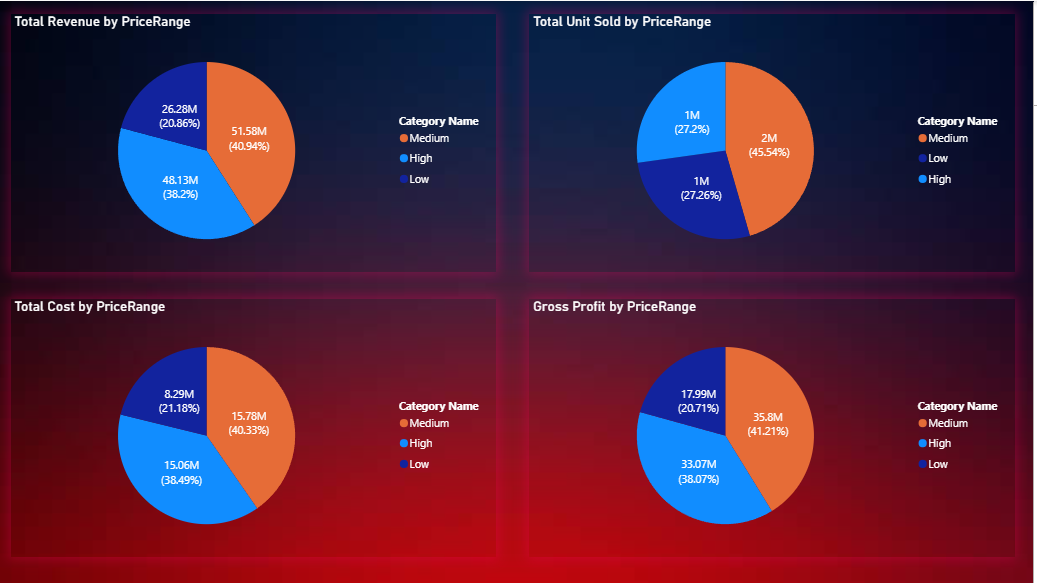

The dashboard page shown, as its layout file describes it:
{"tool":"powerbi","page":{"name":"Category/Sub Category wise growth","canvas":[1280,720],"ordinal":6},"visuals":[{"type":"pieChart","fields":{"Y":["FactSales.Total Revenue"],"Category":["DimCategory.CategoryName","DimSubcategories.SubCategory Name"]},"box":[16,16,600,320],"z":0},{"type":"pieChart","fields":{"Category":["DimCategory.CategoryName","DimSubcategories.SubCategory Name"],"Y":["FactSales.Total Unit Sold"]},"box":[656,16,600,320],"z":1},{"type":"pieChart","fields":{"Category":["DimCategory.CategoryName","DimSubcategories.SubCategory Name"],"Y":["FactSales.Per Unit"]},"box":[16,368,600,336],"z":2},{"type":"pieChart","fields":{"Category":["DimCategory.CategoryName","DimSubcategories.SubCategory Name"],"Y":["FactSales.Gross Profit"]},"box":[656,368,600,336],"z":3}]}

Visuals, with their boxes in screenshot pixels (x1, y1, x2, y2), scaled from the page's 1280x720 canvas onto the 1037x583 screenshot:
pieChart - FactSales.Total Revenue x DimCategory.CategoryName: [x1=13, y1=13, x2=499, y2=272]
pieChart - DimCategory.CategoryName x DimSubcategories.SubCategory Name: [x1=531, y1=13, x2=1018, y2=272]
pieChart - DimCategory.CategoryName x DimSubcategories.SubCategory Name: [x1=13, y1=298, x2=499, y2=570]
pieChart - DimCategory.CategoryName x DimSubcategories.SubCategory Name: [x1=531, y1=298, x2=1018, y2=570]
